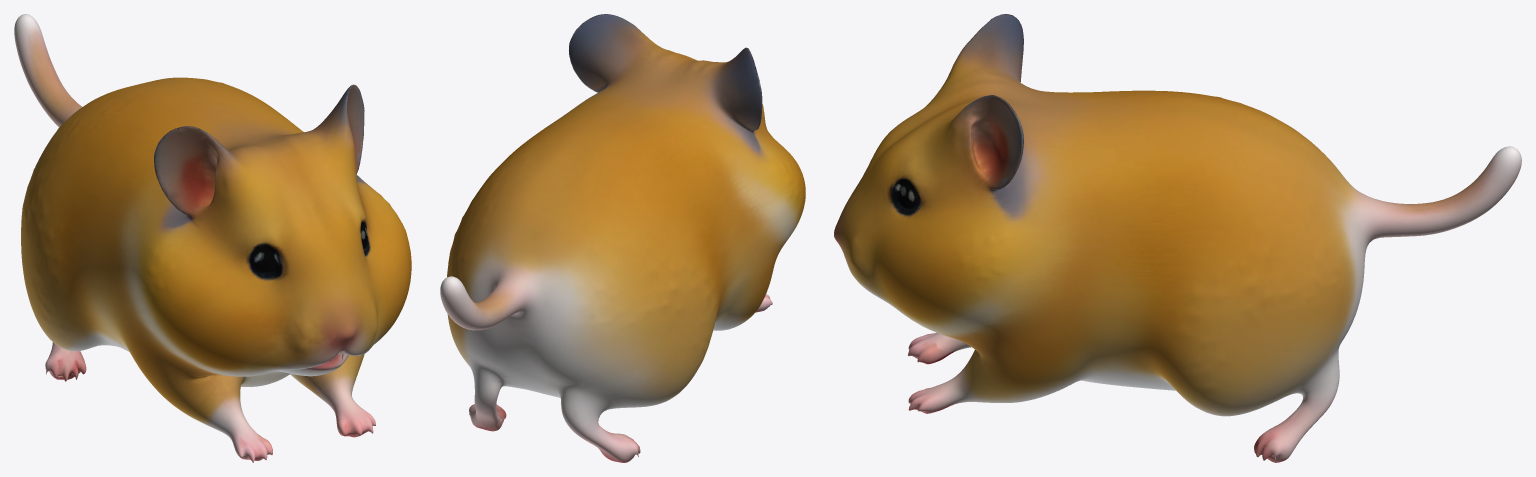
File: hamster_running.glb
3 renders of one model, left to right at view 1: azimuth 30°, elevation 25°; view 2: azimuth 150°, elevation 25°; view 3: azimuth 270°, elevation 25°, orthographic. The views are drawn at different scales.
Parts seen in each view (by area): view 1: model; view 2: model; view 3: model.
Part boxes in pixels (x1,y1,x2,y2): model: (14, 14, 411, 462); model: (440, 14, 805, 462); model: (834, 14, 1521, 462).
Bounding box in the file's own units: 0.8762 × 1.12 × 1.9.
1 material, 1 textured.
